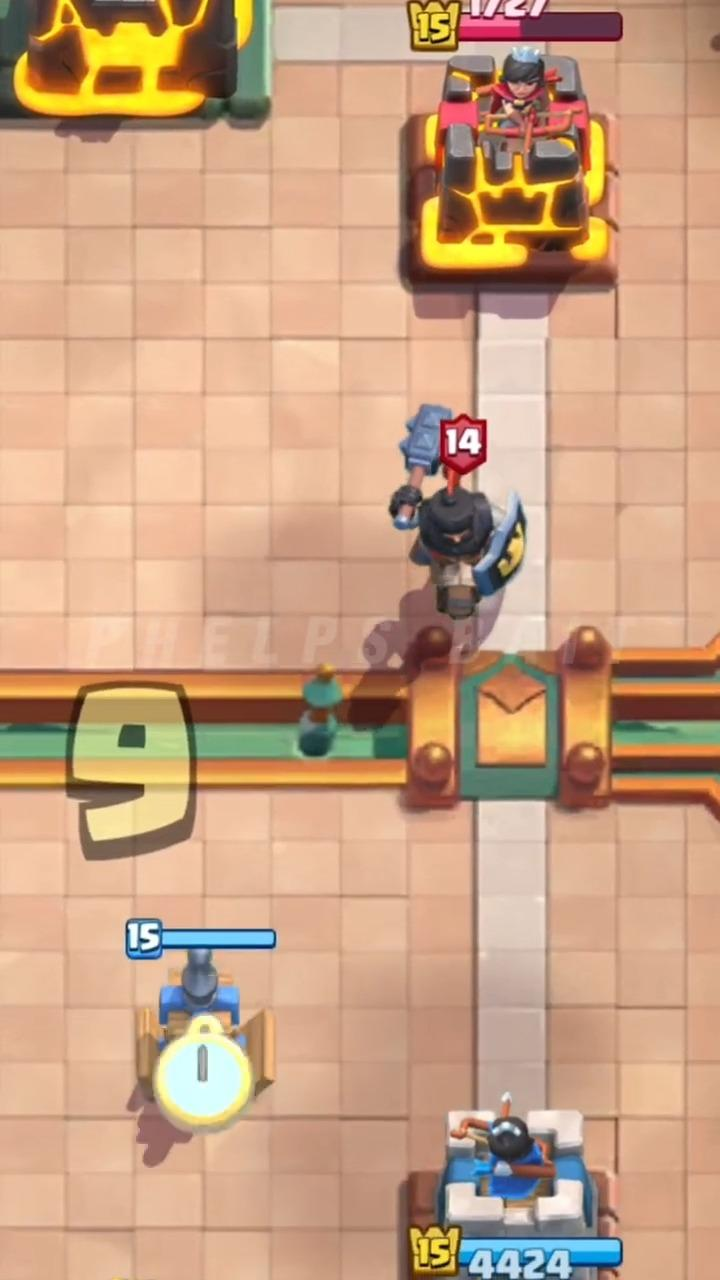dark prince: (389, 406, 526, 621)
tesla: (136, 971, 273, 1100)
